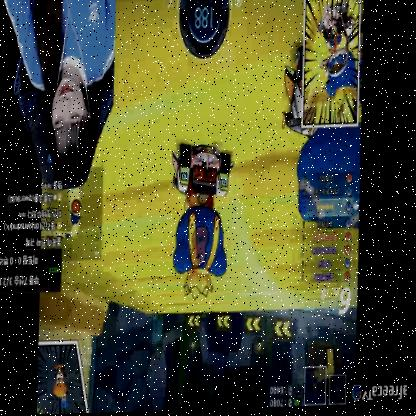streamer: (0, 0, 115, 192)
